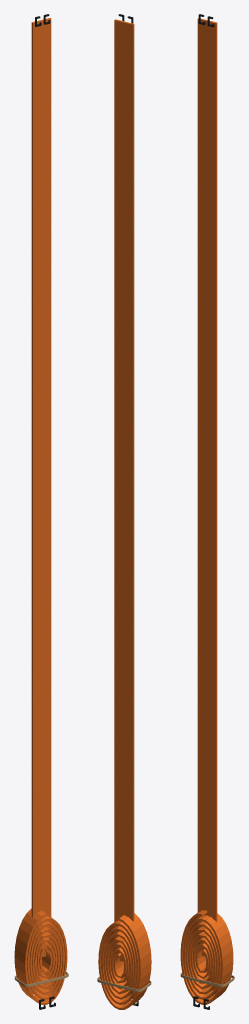
The model's file is alpha.fbx.
3 views of the same model, side by side, from view 1: azimuth 30°, elevation 25°; view 2: azimuth 150°, elevation 25°; view 3: azimuth 330°, elevation 25° (orthographic).
Parts seen in each view (by area): view 1: Band, Alpha_Stowed; view 2: Band, Alpha_Stowed; view 3: Band, Alpha_Stowed.
Boxes of the visible parts, x1,y1,x2,y2 form: Band: [31, 18, 51, 956]; Alpha_Stowed: [14, 908, 68, 1009]; Band: [114, 19, 134, 961]; Alpha_Stowed: [97, 913, 151, 1009]; Band: [197, 18, 217, 956]; Alpha_Stowed: [180, 910, 234, 1009].
Size of the model in its own units: 0.06 by 1.27 by 0.03.
1 material, 1 textured.
